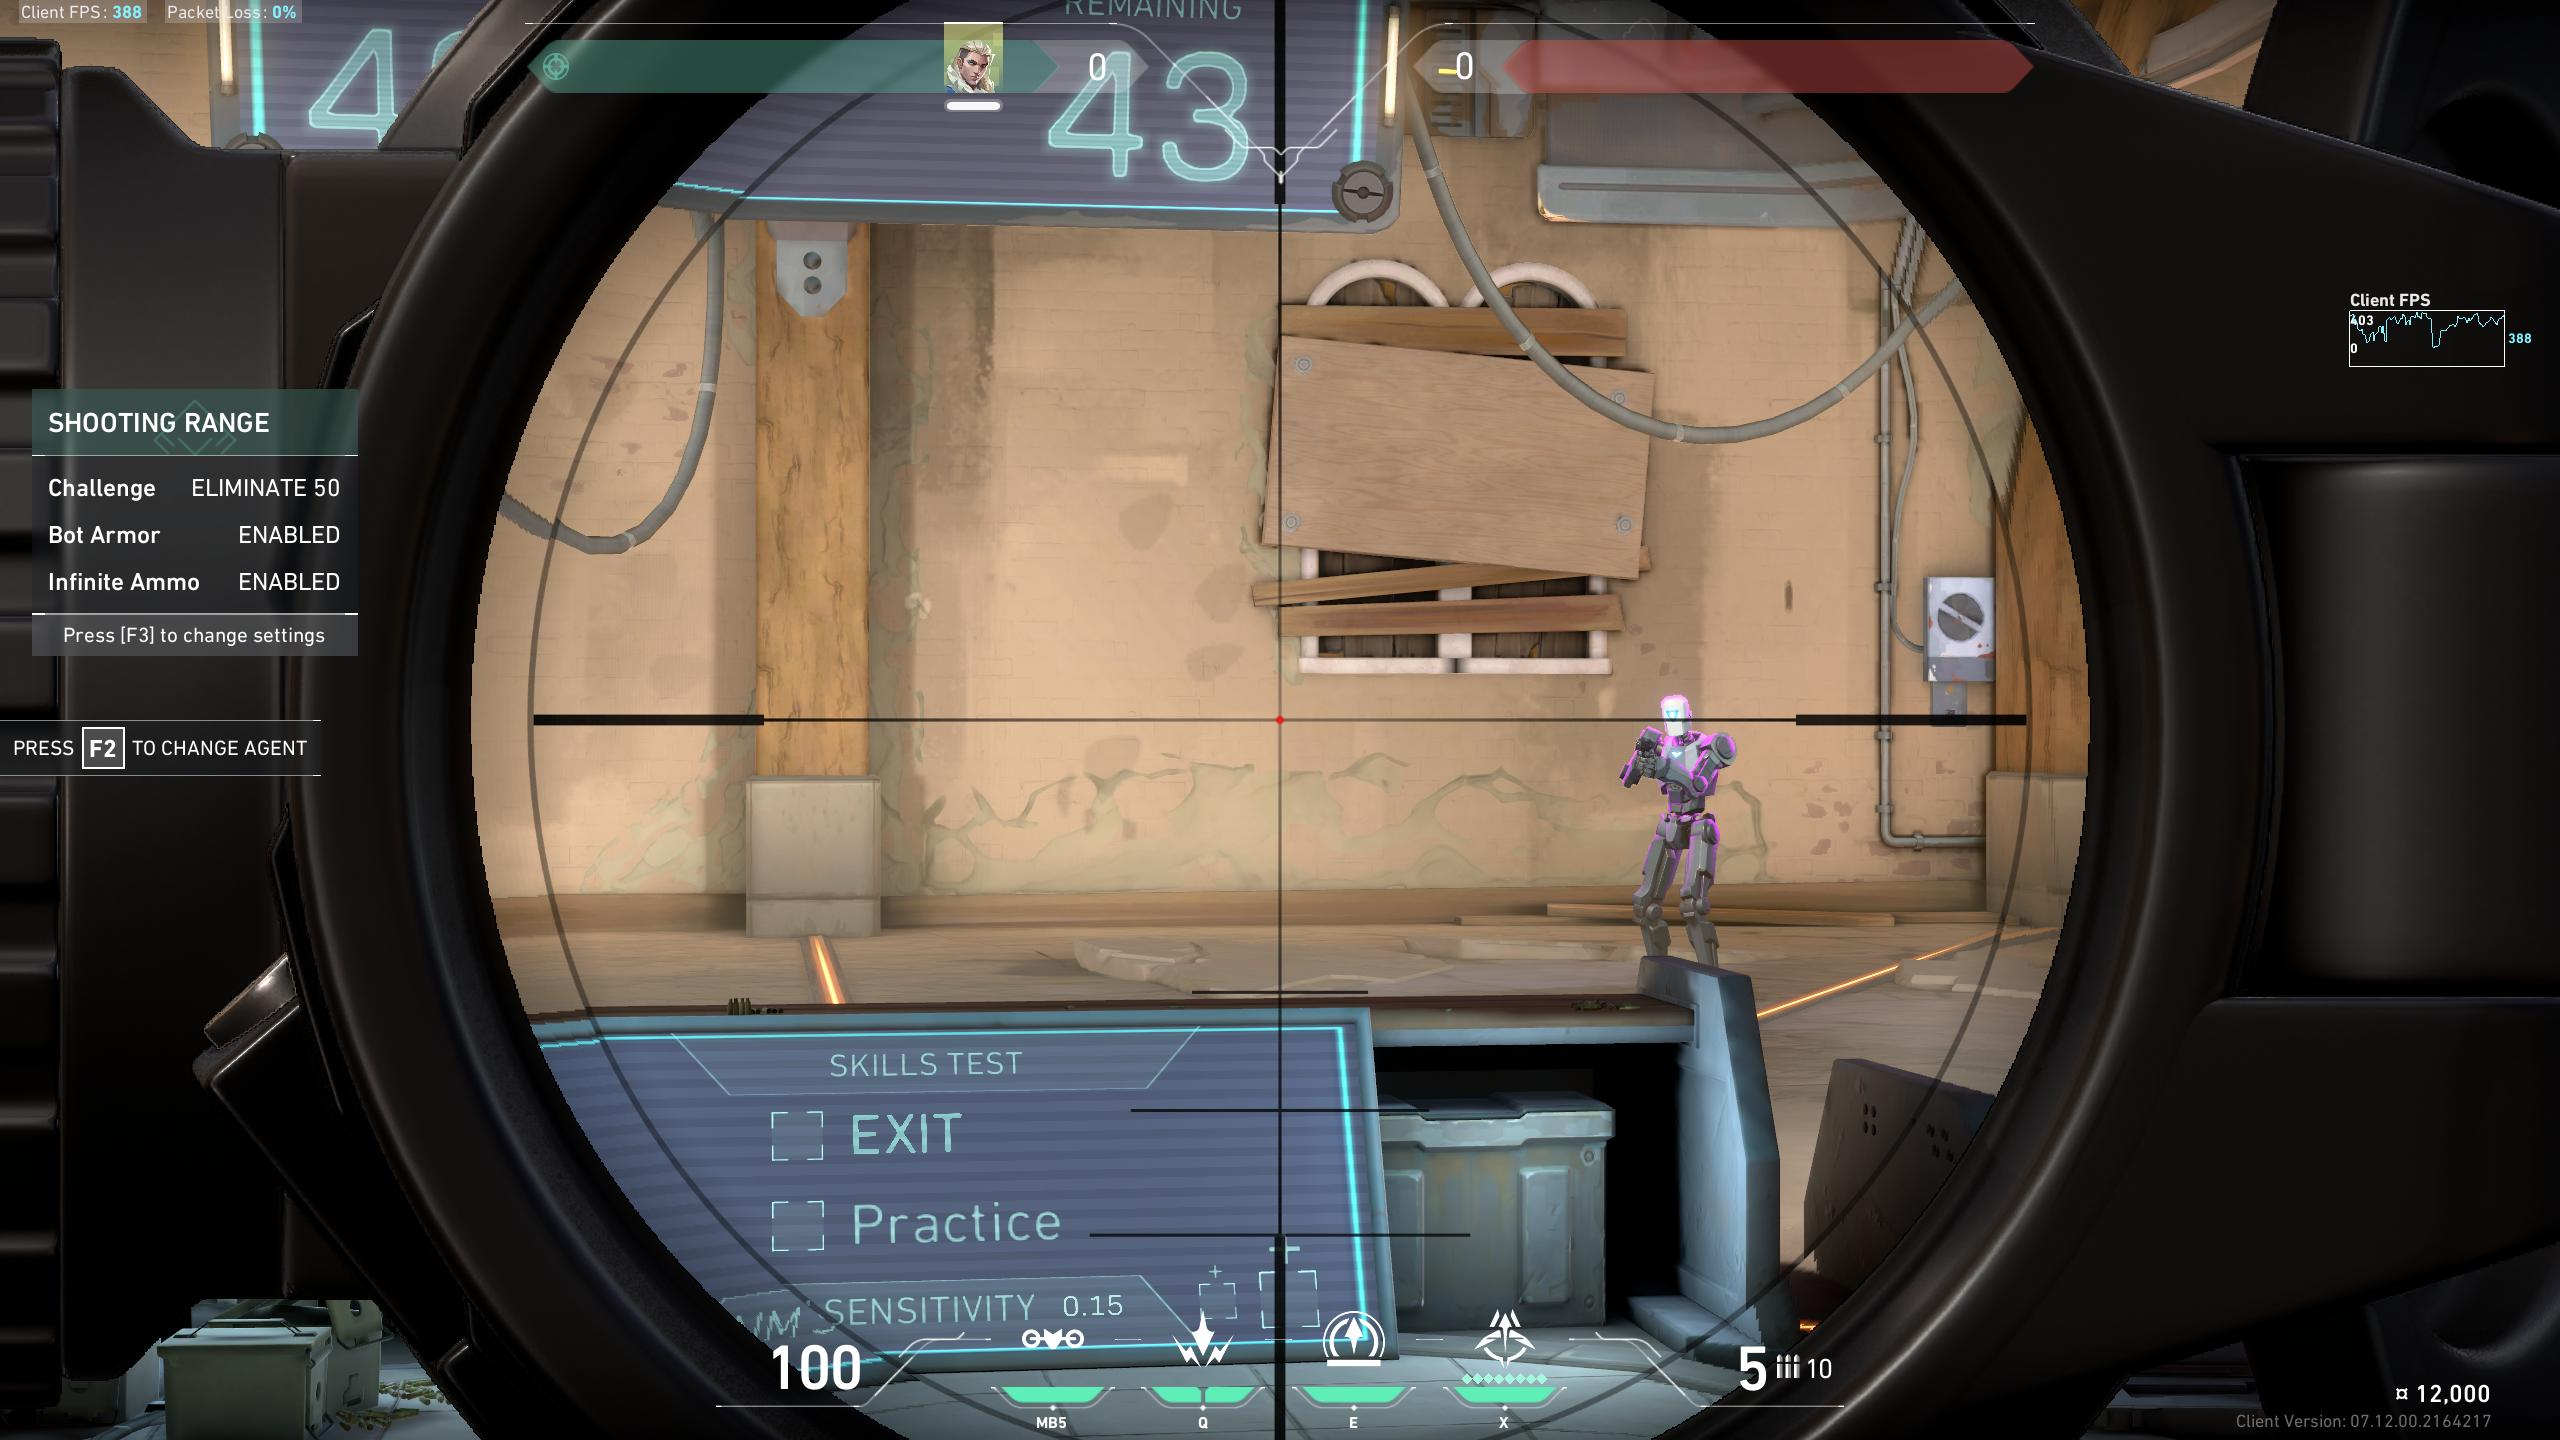enemyHead: (1658, 698, 1695, 742)
